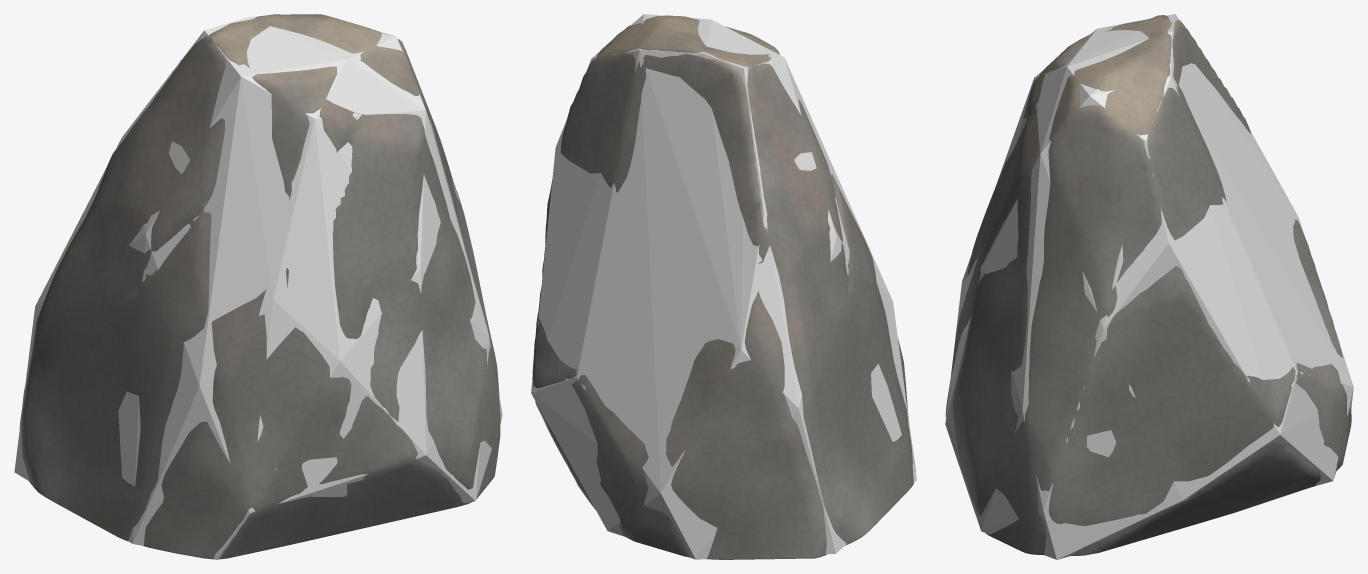
File: IO_Rock_Large_A.glb
The picture shows the model from 3 angles, left to right: view 1: azimuth 30°, elevation 25°; view 2: azimuth 150°, elevation 25°; view 3: azimuth 270°, elevation 25°; orthographic projection. The views are drawn at different scales.
Parts seen in each view (by area): view 1: IO_Rock_Large_A_LOD0, IO_Rock_Large_A_COL; view 2: IO_Rock_Large_A_LOD0, IO_Rock_Large_A_COL; view 3: IO_Rock_Large_A_LOD0, IO_Rock_Large_A_COL.
Boxes of the visible parts, x1,y1,x2,y2 form: IO_Rock_Large_A_LOD0: (19, 14, 500, 559); IO_Rock_Large_A_COL: (14, 14, 502, 559); IO_Rock_Large_A_LOD0: (532, 15, 915, 559); IO_Rock_Large_A_COL: (531, 14, 916, 559); IO_Rock_Large_A_LOD0: (945, 15, 1351, 555); IO_Rock_Large_A_COL: (945, 14, 1353, 559).
Size of what is drawn, in the model's own units: 2.33 by 2.65 by 2.23.
Materials: 1 (1 with a texture image).
